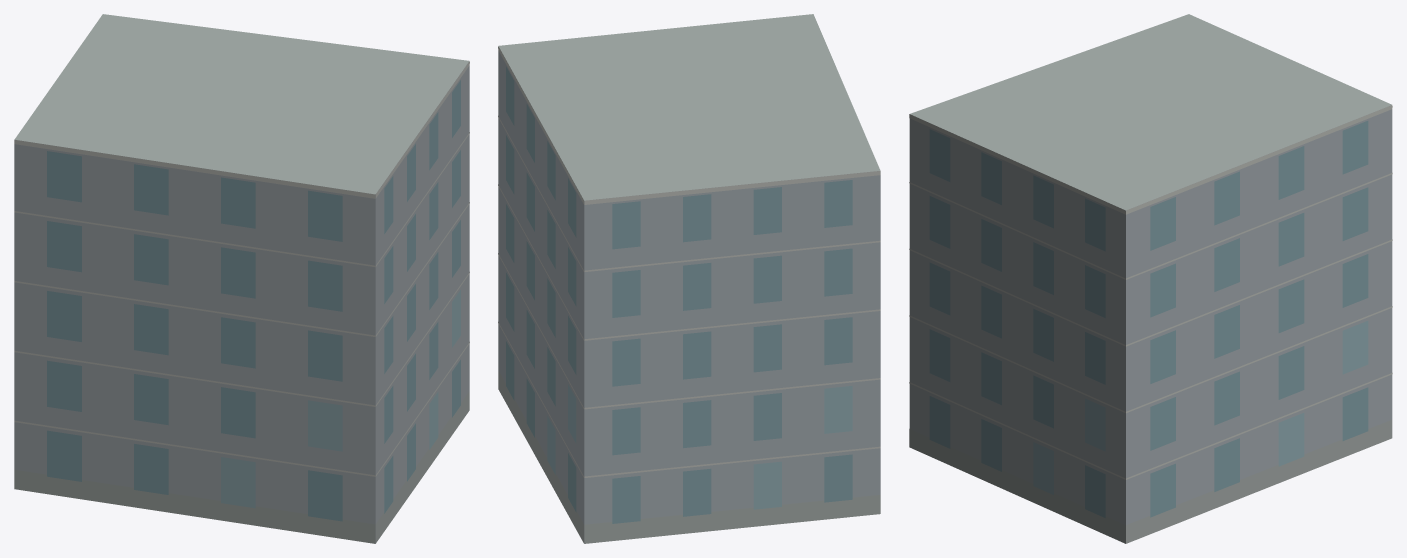
Rendered from survey-upis-32934517.glb.
3 views of the same model, side by side, from view 1: azimuth 30°, elevation 25°; view 2: azimuth 150°, elevation 25°; view 3: azimuth 270°, elevation 25° (orthographic). The views are drawn at different scales.
Visible parts, largest first — view 1: survey-upis-32934517.tmp; view 2: survey-upis-32934517.tmp; view 3: survey-upis-32934517.tmp.
Boxes of the visible parts, <box> form: survey-upis-32934517.tmp: <box>14,14,469,543</box>; survey-upis-32934517.tmp: <box>498,14,880,543</box>; survey-upis-32934517.tmp: <box>909,14,1392,543</box>.
Bounding box in the file's own units: 24.17 × 19.1 × 25.09.
